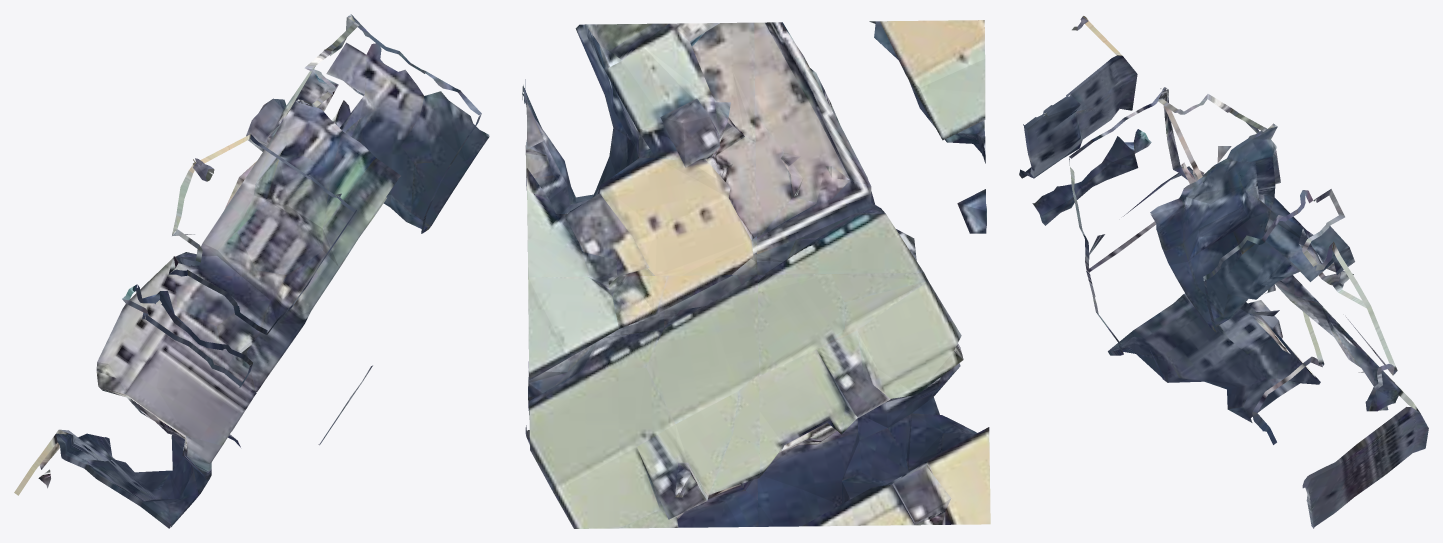
3 views of the same model, side by side, from view 1: azimuth 30°, elevation 25°; view 2: azimuth 150°, elevation 25°; view 3: azimuth 270°, elevation 25° (orthographic). The views are drawn at different scales.
Size of the model in its own units: 43.34 by 40.42 by 36.83.
2 materials, 2 textured.
